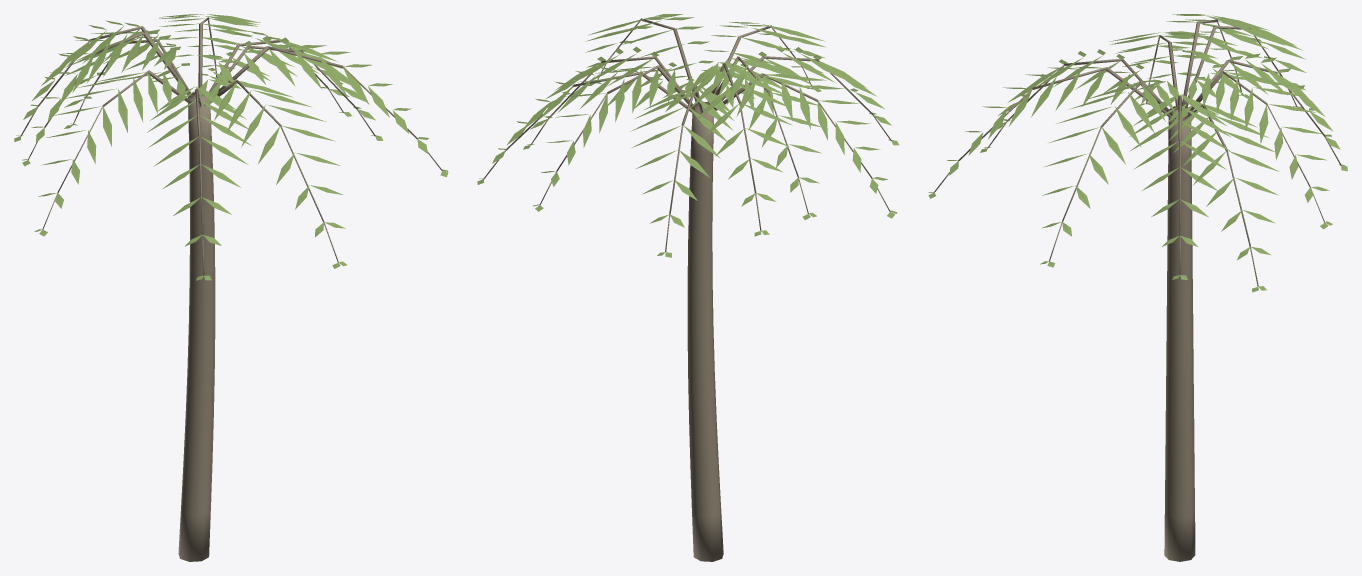
Rendered from palm-lod.glb.
The picture shows the model from 3 angles, left to right: view 1: azimuth 30°, elevation 25°; view 2: azimuth 150°, elevation 25°; view 3: azimuth 270°, elevation 25°; orthographic projection. The views are drawn at different scales.
Visible parts, largest first — view 1: palm-lod_landscape_frond, palm-lod_landscape_bark; view 2: palm-lod_landscape_frond, palm-lod_landscape_bark; view 3: palm-lod_landscape_frond, palm-lod_landscape_bark.
Boxes of the visible parts, left/top/right/bottom form: palm-lod_landscape_frond: left=14, top=14, right=448, bottom=280; palm-lod_landscape_bark: left=20, top=17, right=442, bottom=561; palm-lod_landscape_frond: left=477, top=14, right=898, bottom=257; palm-lod_landscape_bark: left=483, top=18, right=891, bottom=561; palm-lod_landscape_frond: left=928, top=14, right=1347, bottom=292; palm-lod_landscape_bark: left=934, top=19, right=1341, bottom=561.
Size of the model in its own units: 5.92 by 8.05 by 5.95.
